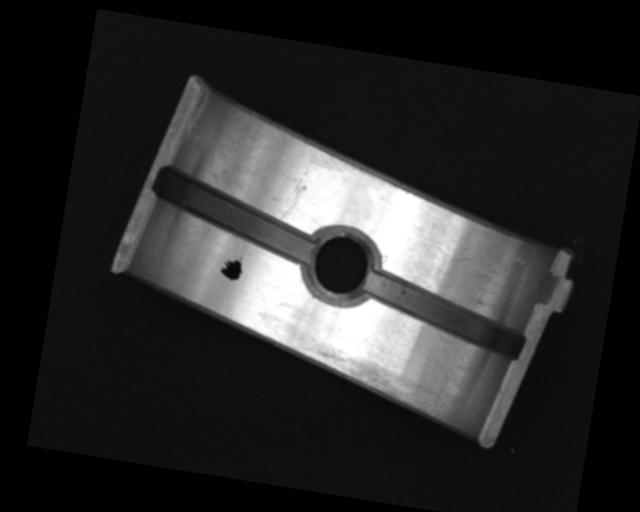blot: (218, 252, 245, 283)
bruise: (452, 253, 472, 264), (513, 255, 528, 267)
gap: (146, 166, 322, 266), (357, 270, 532, 361)
hole: (300, 224, 384, 311)
nick: (280, 169, 311, 223)
scratch: (290, 338, 448, 417)
